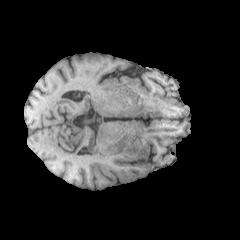glioma: (87, 138, 139, 161)
